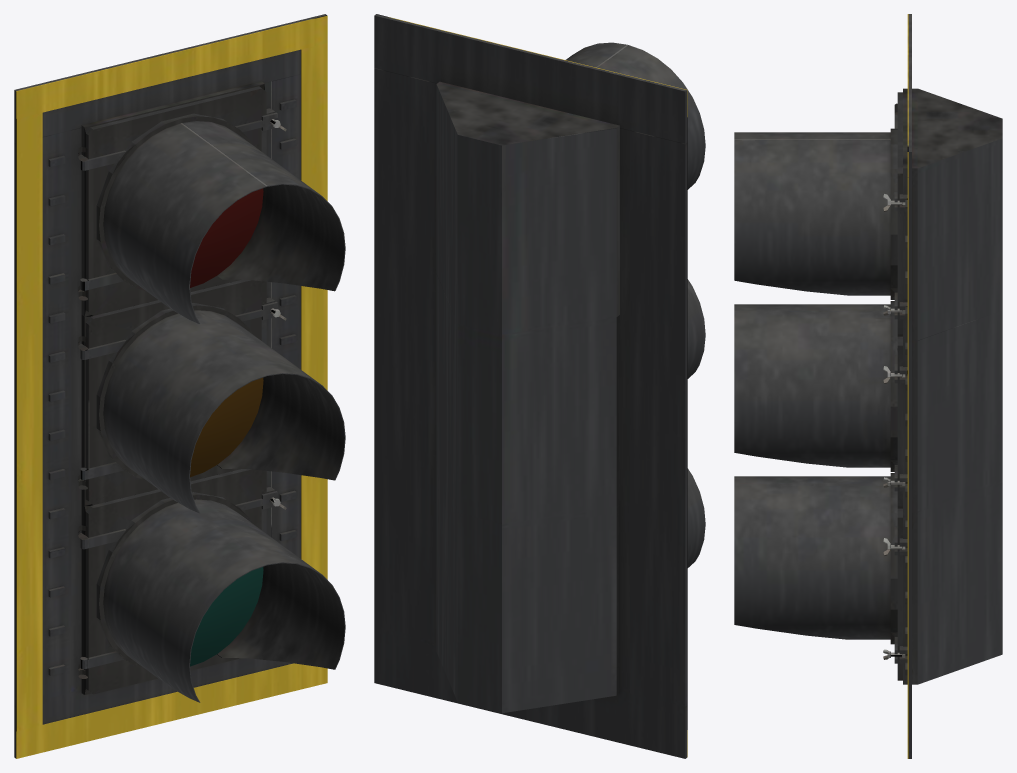
File: signalHead-v1.glb
The picture shows the model from 3 angles, left to right: view 1: azimuth 30°, elevation 25°; view 2: azimuth 150°, elevation 25°; view 3: azimuth 270°, elevation 25°; orthographic projection. The views are drawn at different scales.
Parts seen in each view (by area): view 1: signalHead-v1; view 2: signalHead-v1; view 3: signalHead-v1.
Boxes of the visible parts, x1,y1,x2,y2 form: signalHead-v1: [14, 14, 345, 758]; signalHead-v1: [374, 14, 705, 758]; signalHead-v1: [734, 14, 1002, 758].
Bounding box in the file's own units: 0.6022 × 1.23 × 0.4948.
4 materials, 1 textured.
